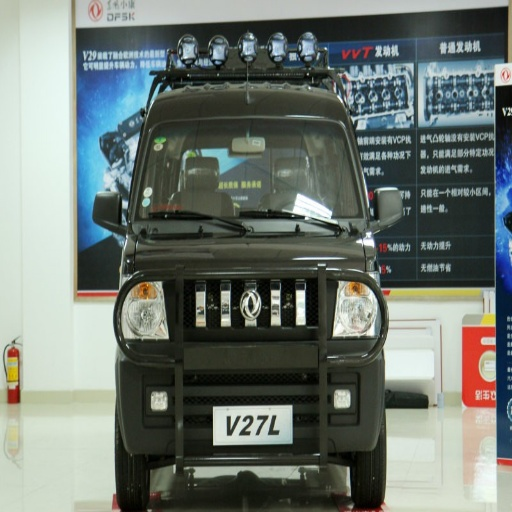front_bumper: (208, 339, 382, 460), (116, 355, 186, 458), (175, 275, 298, 316)
front_right_light: (116, 278, 166, 347)
trunk: (184, 334, 294, 390)
